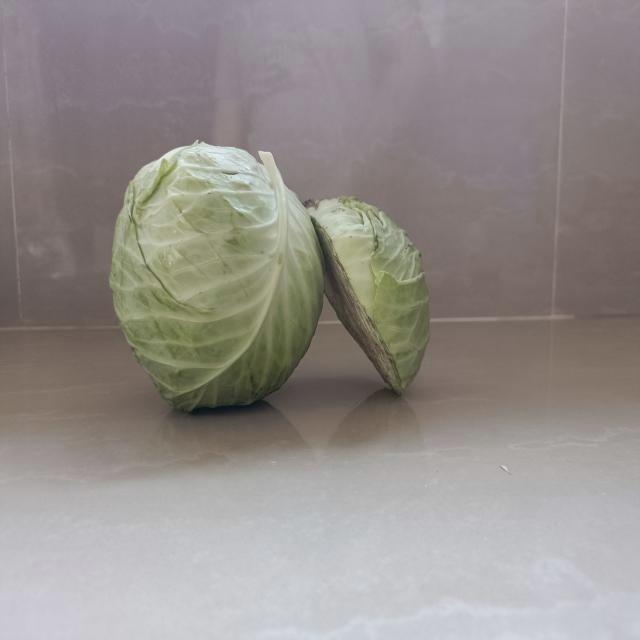cabbage: (108, 142, 323, 413), (308, 194, 431, 404)
